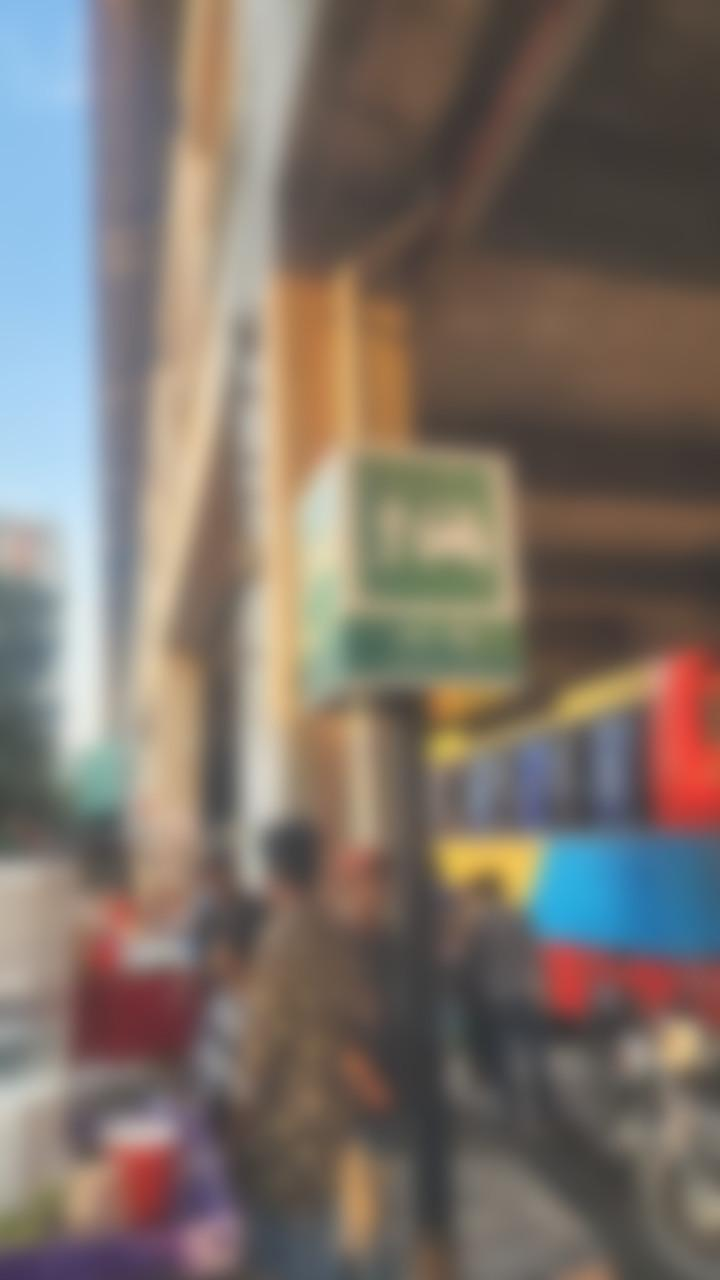Metro Dorp Up Pick up: (291, 439, 526, 711)
